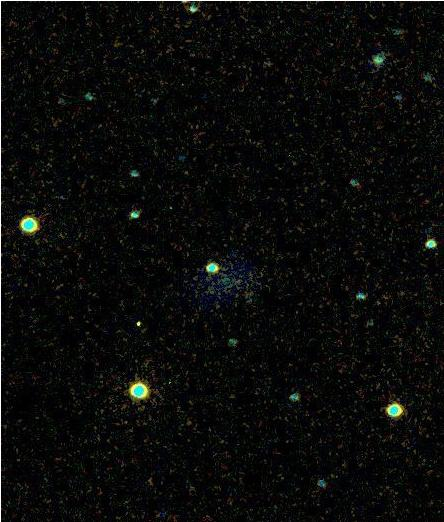star: (119, 307, 149, 337)
